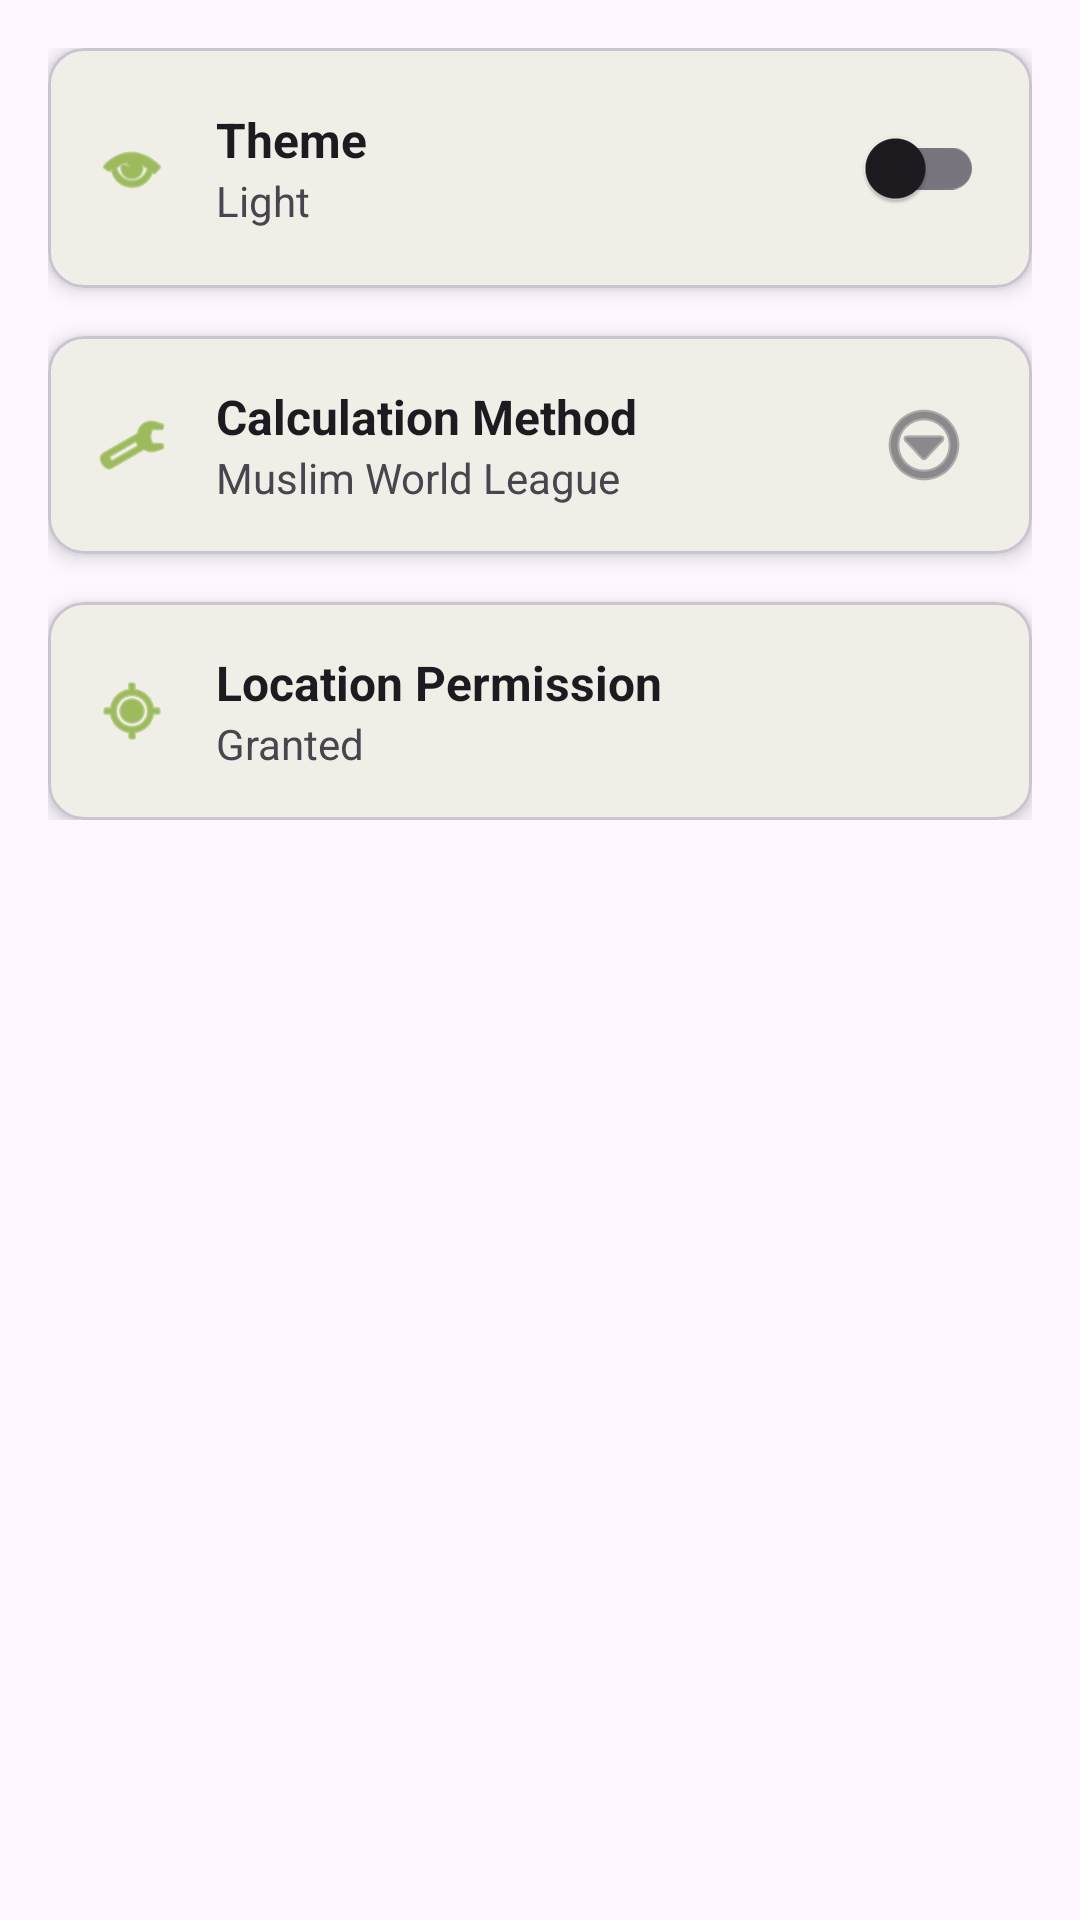

Named icons in this screenshot (1080x1920) and their bounding boxes, (x1, y1, x2, y2):
mylocation: (103, 682, 161, 740)
preferences: (99, 420, 164, 470)
view: (103, 151, 161, 188)
